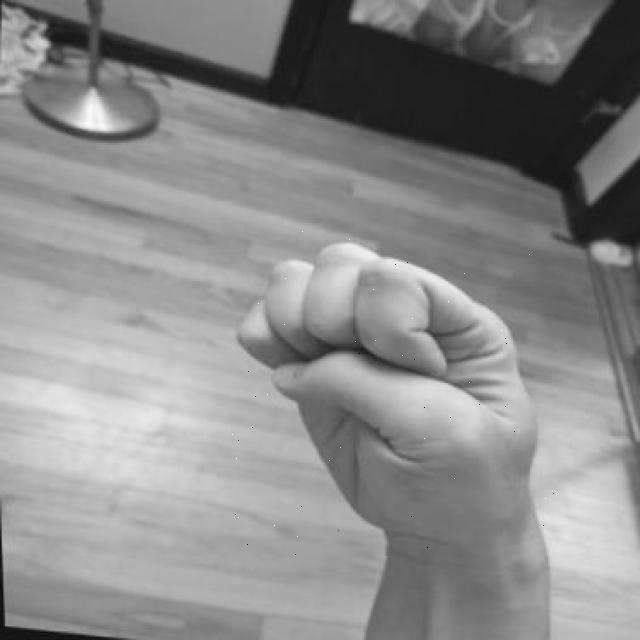E: (208, 222, 562, 556)
